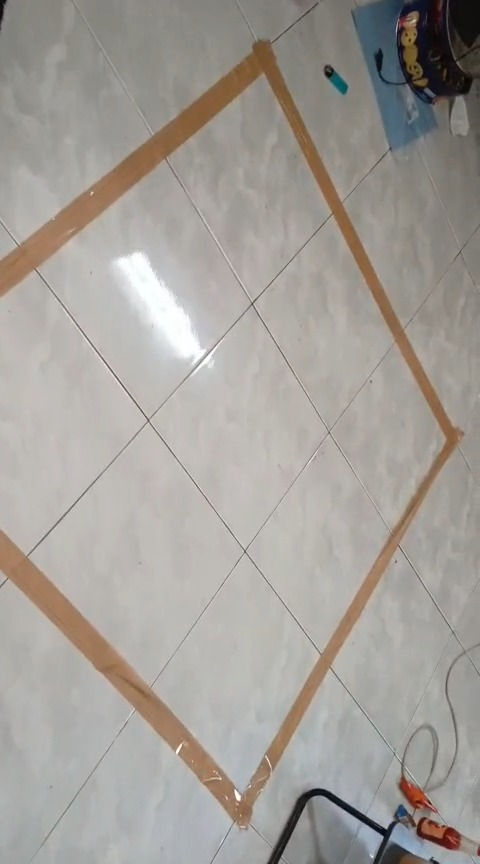floor marking: (0, 40, 462, 825)
